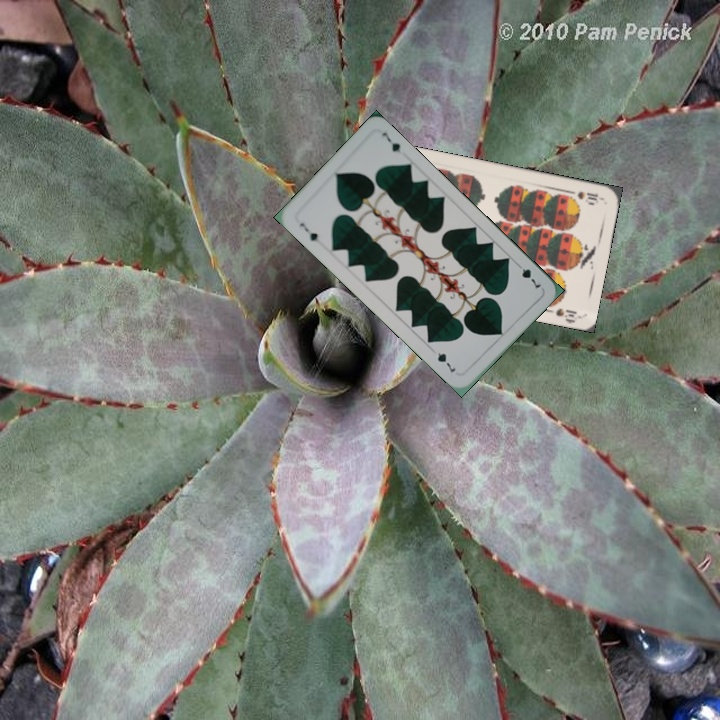G7: (512, 258, 544, 291), (295, 218, 320, 244)
S10: (564, 186, 604, 206)
